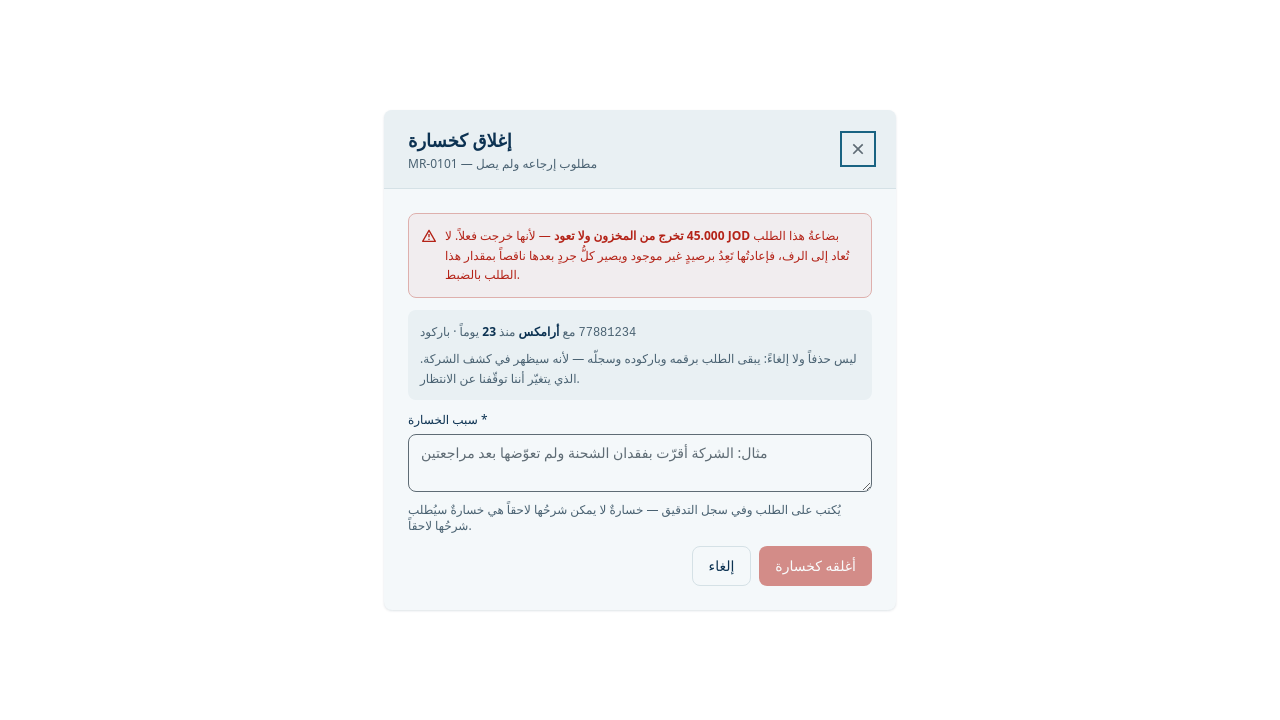
Test: what reaches the door › but a refused attempt gives the button back, so it can be tried again
In the text box labelled "سبب الخسارة *": (640, 463) [408,434,872,492], type "فقدان الشحنة"
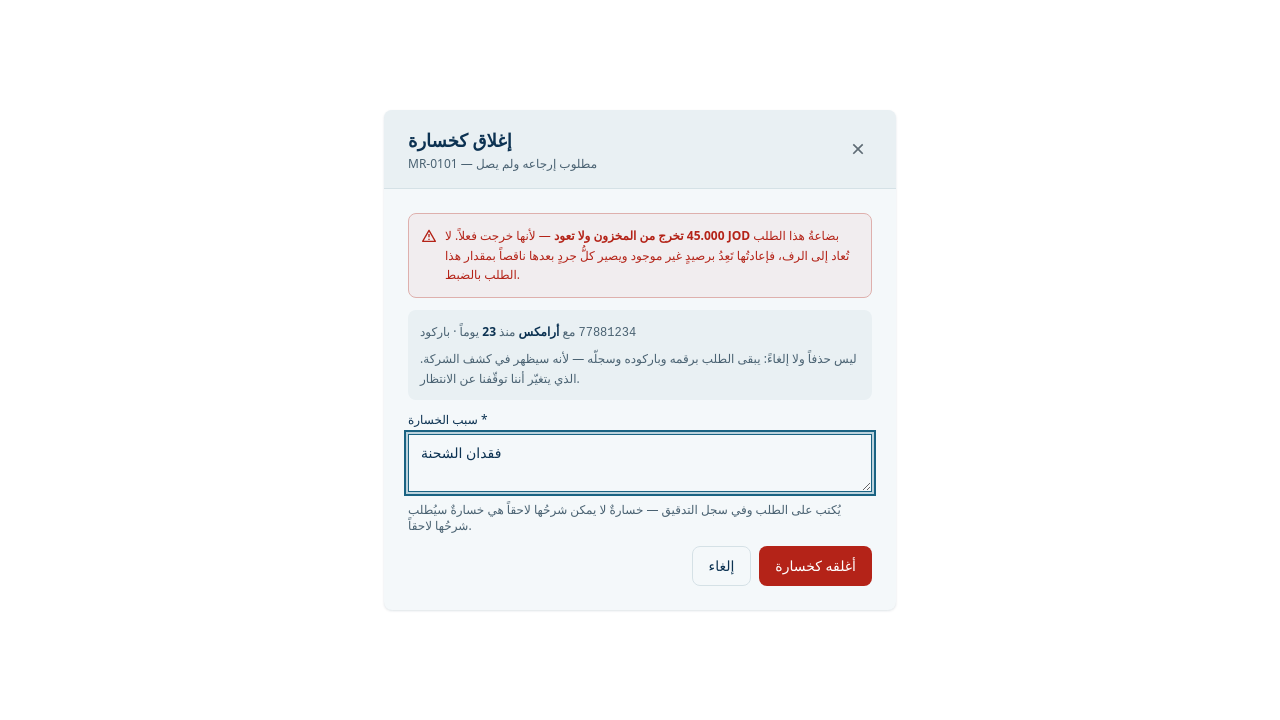
Click the submit button: (816, 566) [759,546,872,586]
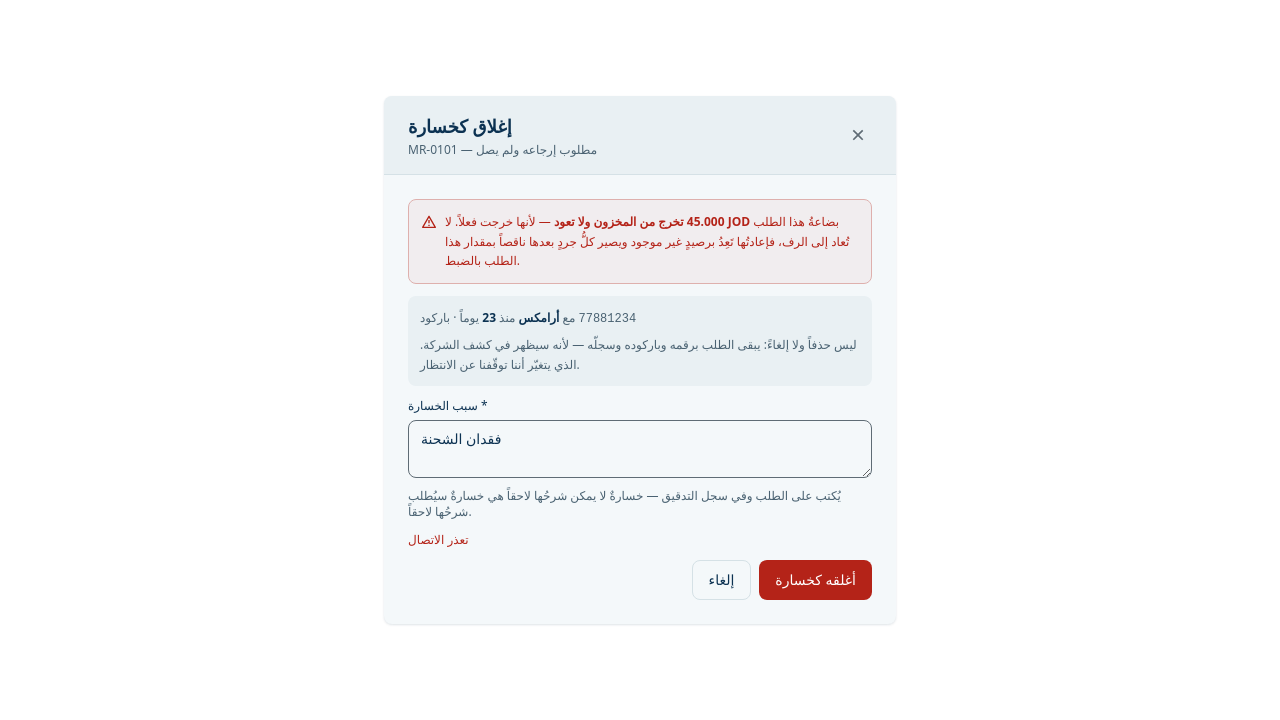
Expected: the submit button is enabled, [759,560,872,600]
Expected: the text "تعذر الاتصال" is shown, [408,531,469,548]
